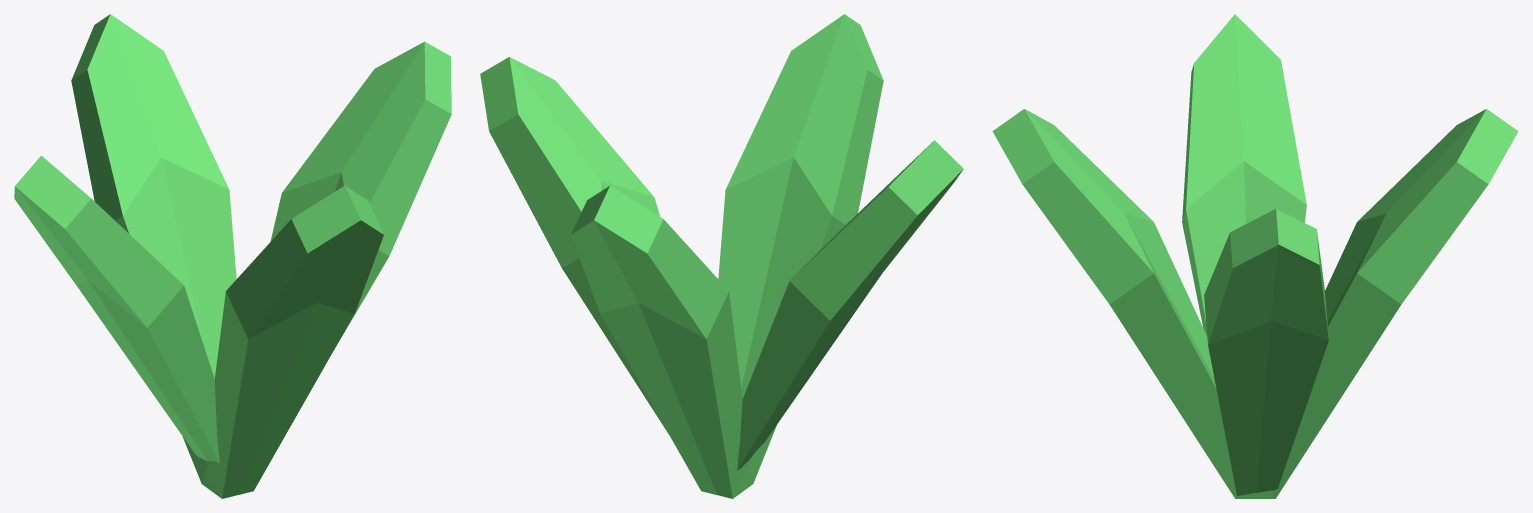
Rendered from PROP_grass2.fbx.
The picture shows the model from 3 angles, left to right: view 1: azimuth 30°, elevation 25°; view 2: azimuth 150°, elevation 25°; view 3: azimuth 270°, elevation 25°; orthographic projection.
Parts seen in each view (by area): view 1: Cube.003; view 2: Cube.003; view 3: Cube.003.
Boxes of the visible parts, x1,y1,x2,y2 form: Cube.003: (14, 14, 451, 498); Cube.003: (480, 14, 963, 498); Cube.003: (992, 14, 1518, 498).
Bounding box in the file's own units: 49.61 × 39.98 × 49.81.
